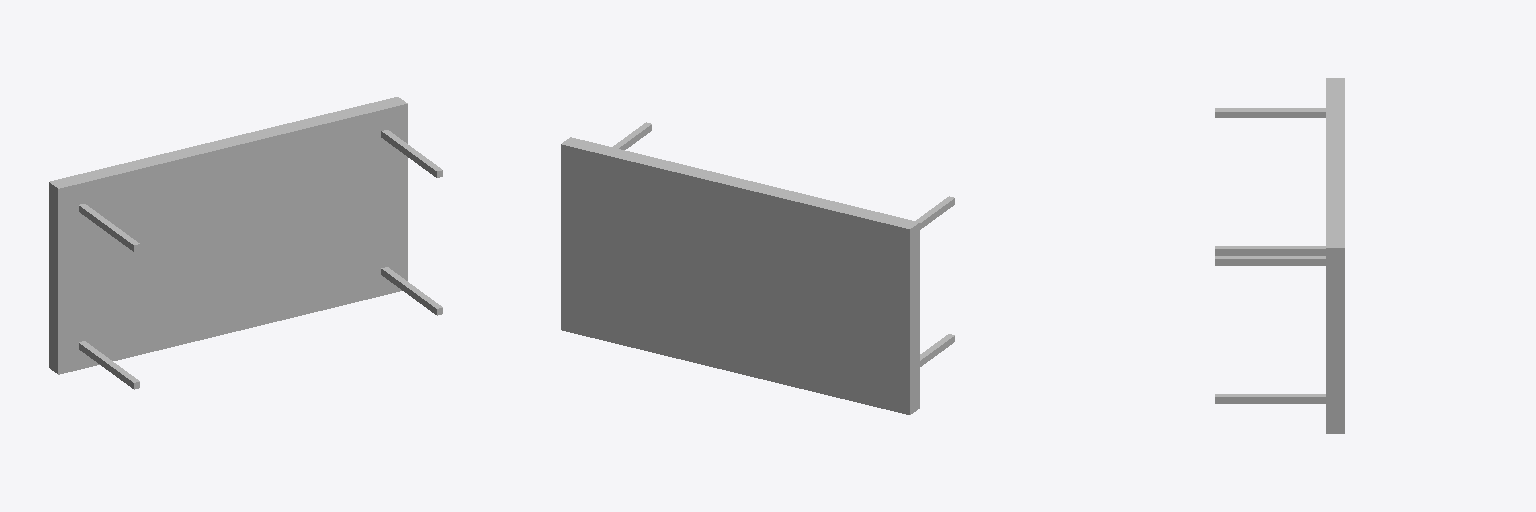
File: random_table50.obj
3 views of the same model, side by side, from view 1: azimuth 30°, elevation 25°; view 2: azimuth 150°, elevation 25°; view 3: azimuth 270°, elevation 25° (orthographic).
Parts seen in each view (by area): view 1: Table_Cube.1315, TableLeg2_Cube.1318, TableLeg0_Cube.1316, TableLeg3_Cube.1319, TableLeg1_Cube.1317; view 2: Table_Cube.1315; view 3: Table_Cube.1315, TableLeg0_Cube.1316, TableLeg1_Cube.1317, TableLeg2_Cube.1318, TableLeg3_Cube.1319.
Boxes of the visible parts, box(x1,y1,x2,y2) form: Table_Cube.1315: box(49, 97, 407, 374); TableLeg2_Cube.1318: box(381, 267, 442, 315); TableLeg0_Cube.1316: box(381, 130, 442, 177); TableLeg3_Cube.1319: box(79, 341, 139, 389); TableLeg1_Cube.1317: box(79, 204, 139, 251); Table_Cube.1315: box(561, 137, 919, 414); Table_Cube.1315: box(1326, 78, 1344, 433); TableLeg0_Cube.1316: box(1215, 256, 1325, 265); TableLeg1_Cube.1317: box(1215, 108, 1325, 117); TableLeg2_Cube.1318: box(1215, 394, 1325, 403); TableLeg3_Cube.1319: box(1215, 246, 1325, 255).
Bounding box in the file's own units: 11.67 × 5.94 × 3.77.